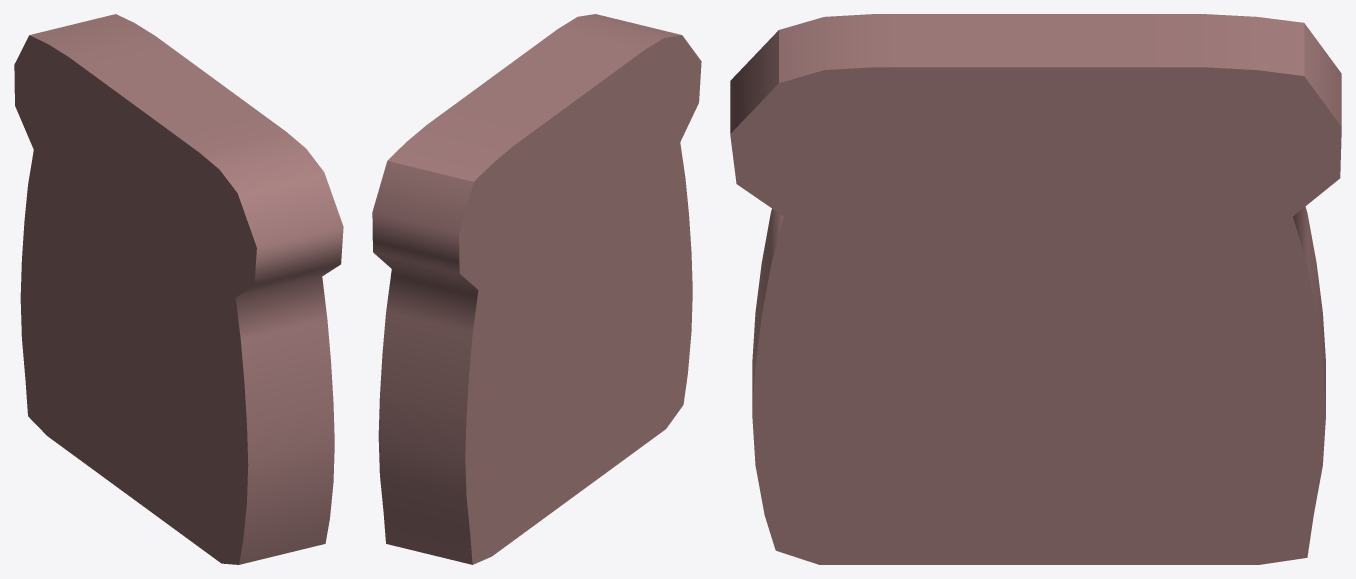
The model's file is toast_001.fbx.
3 views of the same model, side by side, from view 1: azimuth 30°, elevation 25°; view 2: azimuth 150°, elevation 25°; view 3: azimuth 270°, elevation 25° (orthographic). The views are drawn at different scales.
Visible parts, largest first — view 1: toast; view 2: toast; view 3: toast.
Part boxes in pixels (x1,y1,x2,y2): toast: [14, 14, 343, 564]; toast: [372, 14, 701, 564]; toast: [730, 14, 1341, 564].
Bounding box in the file's own units: 8.91 × 38.8 × 43.21.
